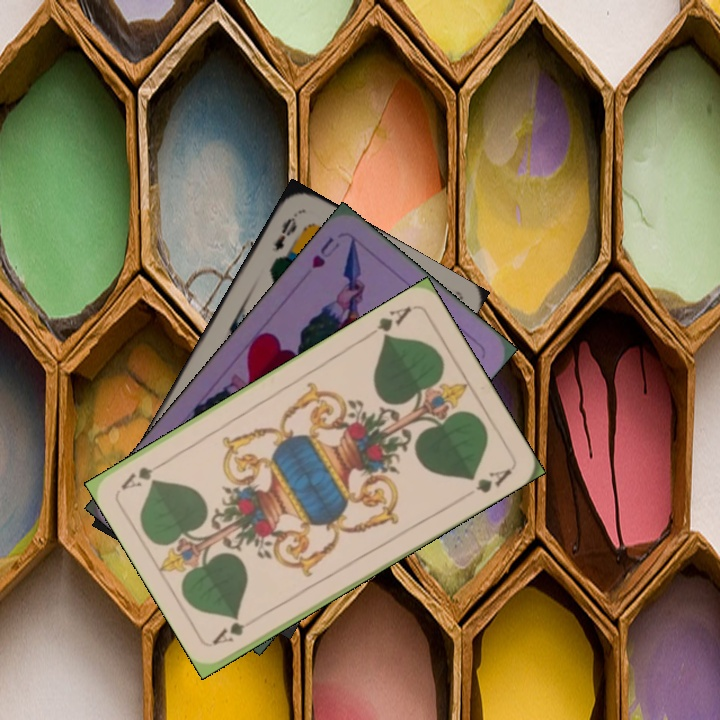EO: (269, 209, 300, 265)
GA: (363, 302, 415, 343), (209, 613, 263, 648)
HU: (307, 233, 343, 272)
